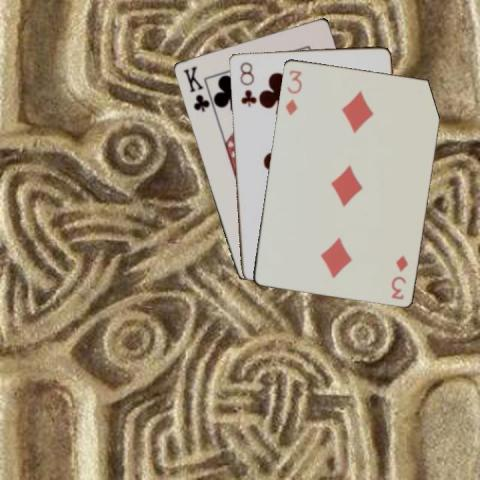3d: (282, 67, 303, 116), (388, 252, 409, 301)
8c: (237, 59, 256, 108)
Kc: (179, 64, 210, 114)
